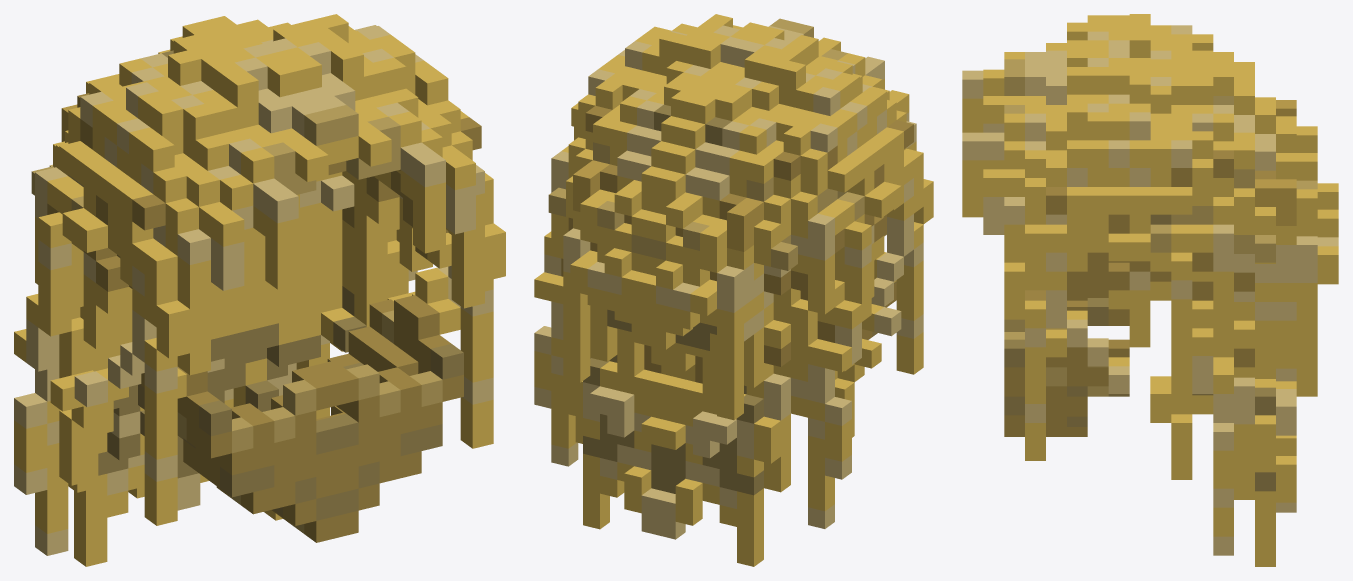
File: senshi_male_hair.glb
3 views of the same model, side by side, from view 1: azimuth 30°, elevation 25°; view 2: azimuth 150°, elevation 25°; view 3: azimuth 270°, elevation 25° (orthographic). The views are drawn at different scales.
Parts seen in each view (by area): view 1: Helmet; view 2: Helmet; view 3: Helmet.
Part boxes in pixels (x1,y1,x2,y2): Helmet: (14, 14, 505, 566); Helmet: (534, 14, 933, 566); Helmet: (962, 14, 1338, 566).
Bounding box in the file's own units: 0.774 × 1.07 × 0.774.
Materials: 1 (1 with a texture image).
